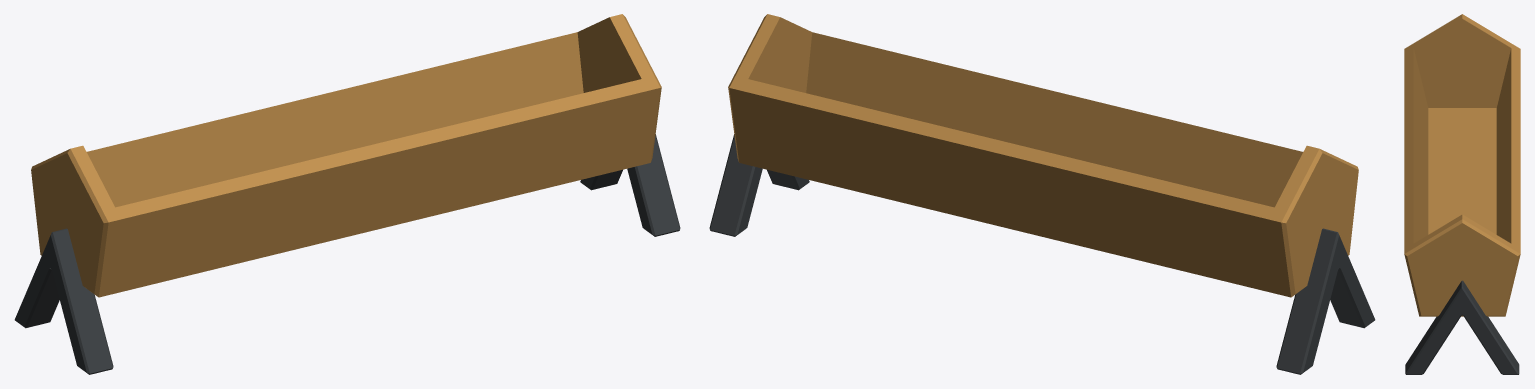
The model's file is littlefoodholder_b.gltf.
The picture shows the model from 3 angles, left to right: view 1: azimuth 30°, elevation 25°; view 2: azimuth 150°, elevation 25°; view 3: azimuth 270°, elevation 25°; orthographic projection. The views are drawn at different scales.
Parts seen in each view (by area): view 1: littlefoodholder_b001; view 2: littlefoodholder_b001; view 3: littlefoodholder_b001.
Part boxes in pixels (box(x1,y1,x2,y2)): littlefoodholder_b001: box(14, 14, 680, 374); littlefoodholder_b001: box(709, 14, 1375, 374); littlefoodholder_b001: box(1404, 14, 1520, 374).
Size of the model in its own units: 1.59 by 0.498 by 0.3539.
1 material, 1 textured.
